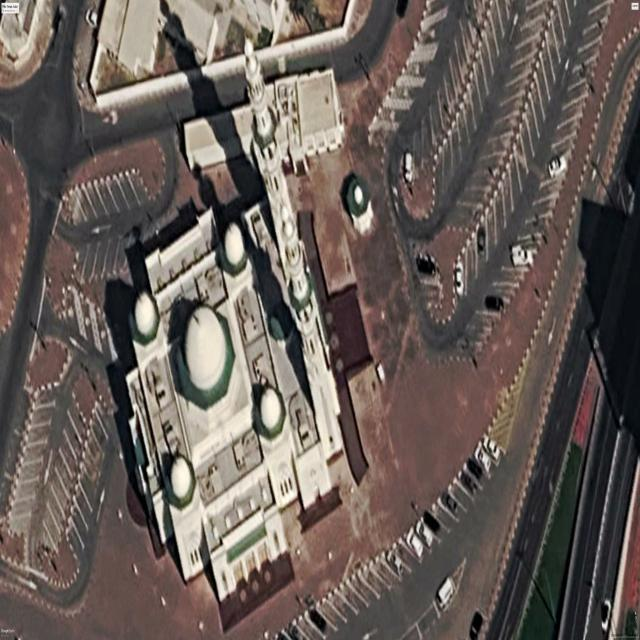Home: (127, 40, 342, 628)
